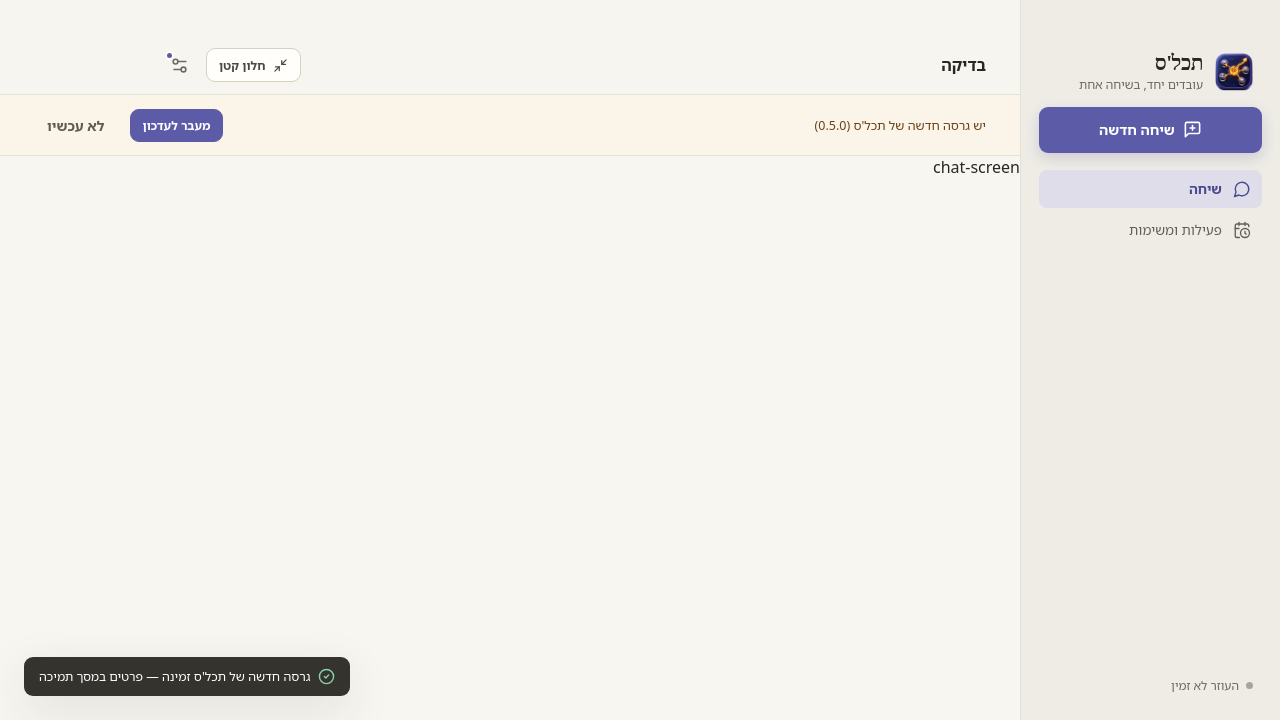
Test case: FullAppShell — passive companion-update surface (B1) › the banner CTA navigates to the support screen (and marks the version seen on arrival)
Expected: the text "יש גרסה חדשה של תכל'ס (0.5.0)" is shown, [814,116,986,134]
What coordinates should you click on to do the following:
click the button "מעבר לעדכון"
I would click on:
 (176, 125)
Its box is [130,108,224,142].
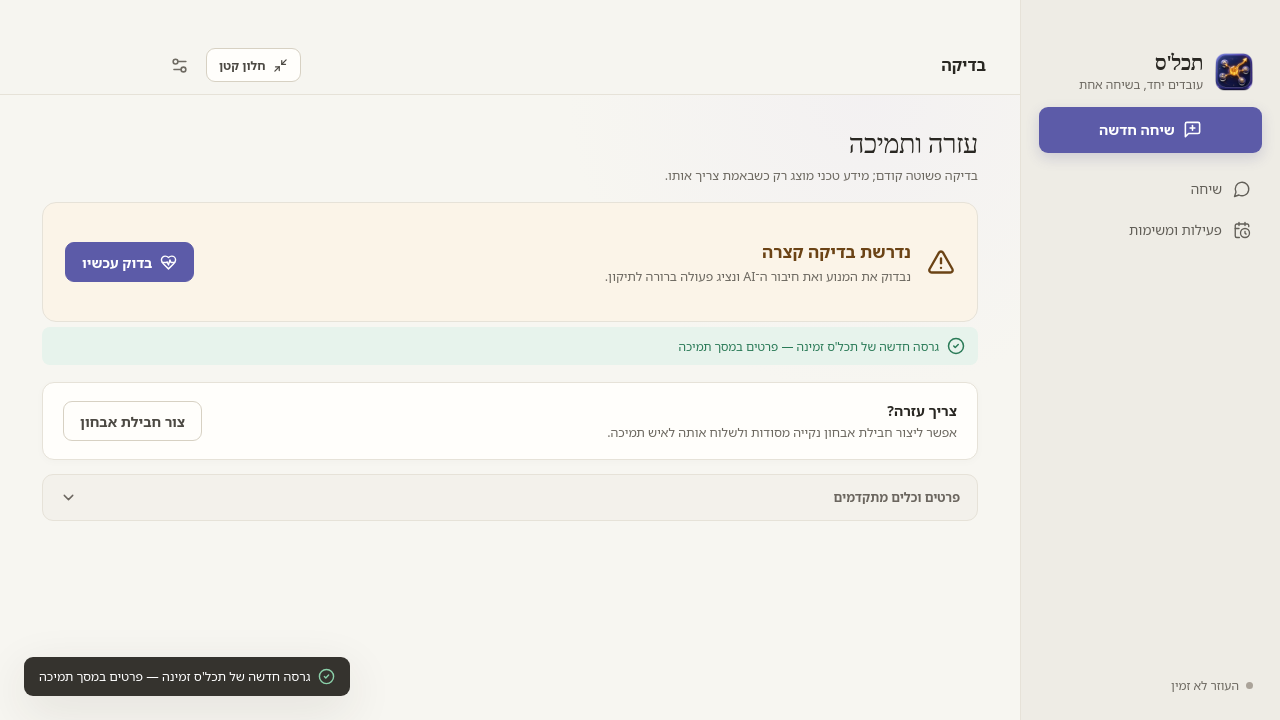
Now the button "מעבר לעדכון" is gone
